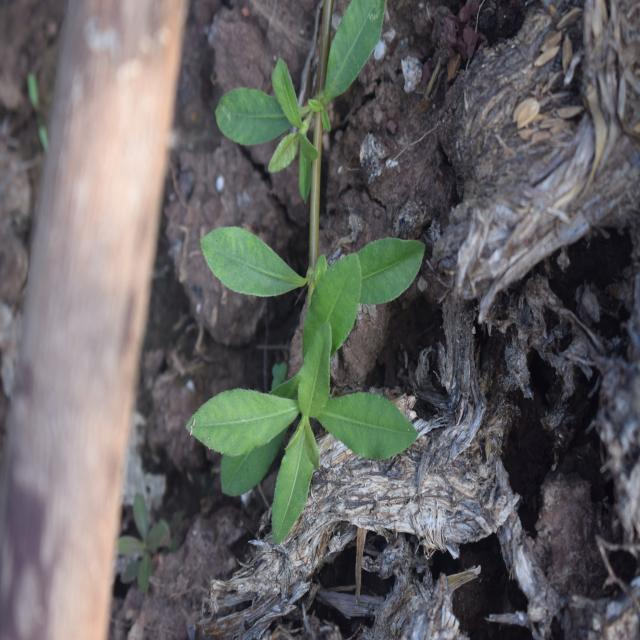Alligatorweed: (189, 55, 417, 512)
